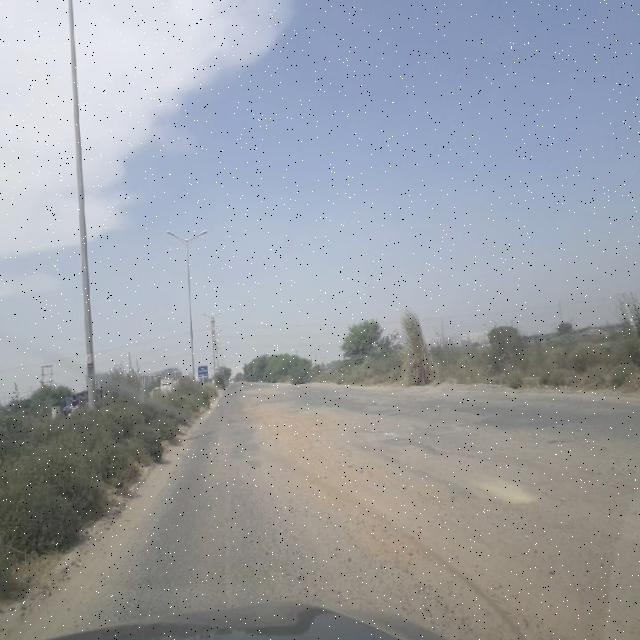D00: (218, 474, 242, 596)
D40: (250, 401, 596, 581)
